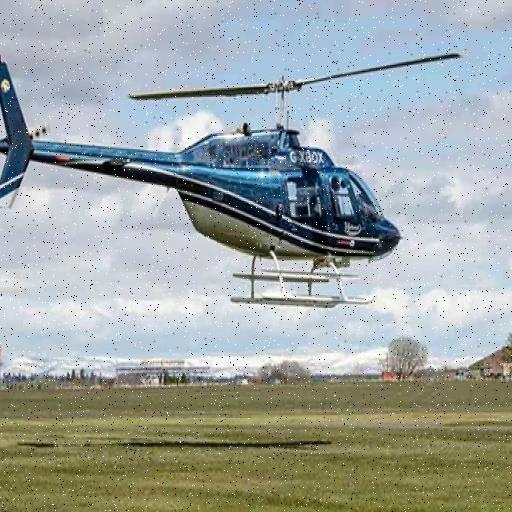helicopter: (1, 39, 466, 312)
